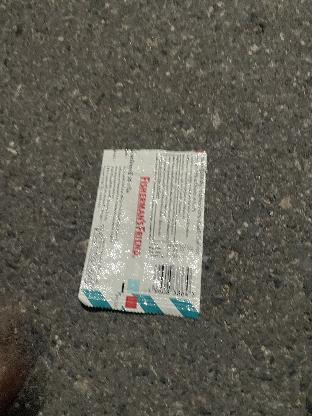Others: (66, 134, 226, 328)
